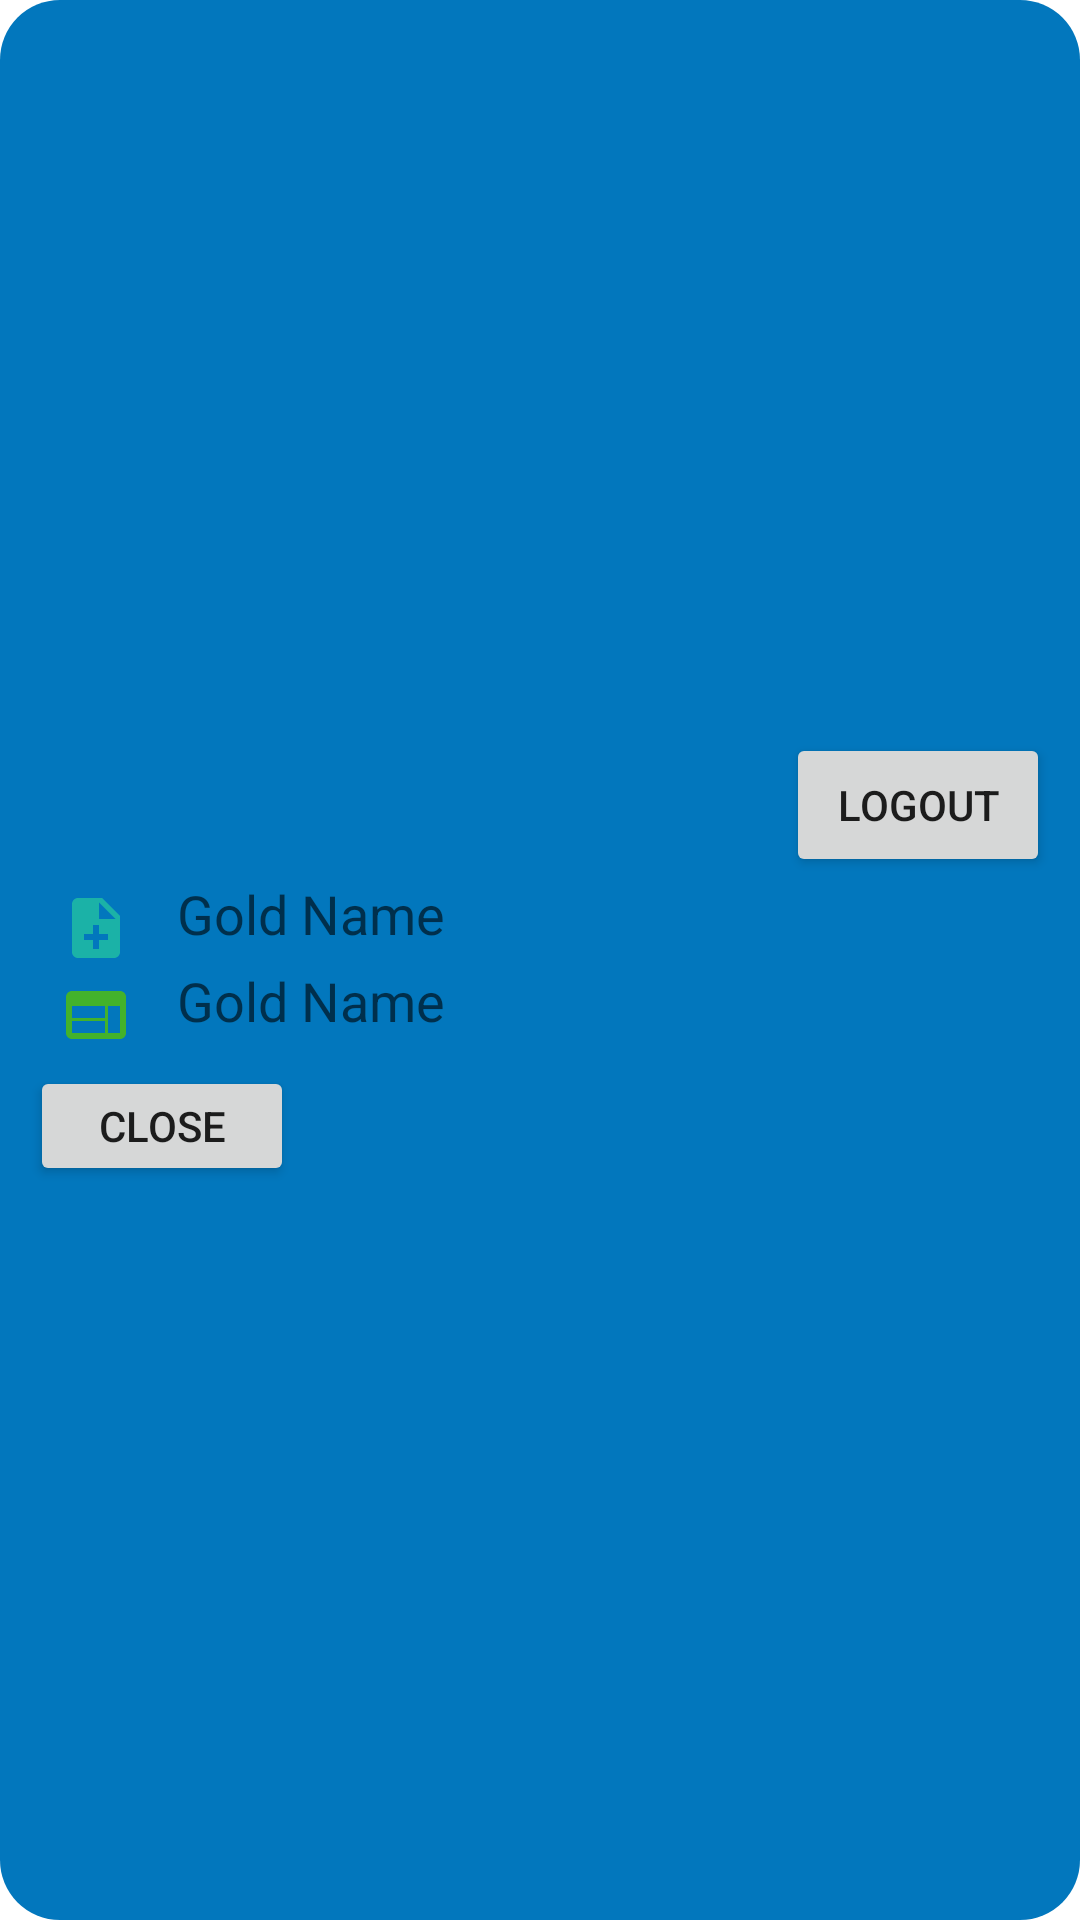

Icon bounding boxes for this 1080 × 1920 phone screenshot, format bbox=[x1, y1, x2, y2]:
note add: bbox=[72, 898, 120, 958]
web: bbox=[66, 991, 126, 1039]
